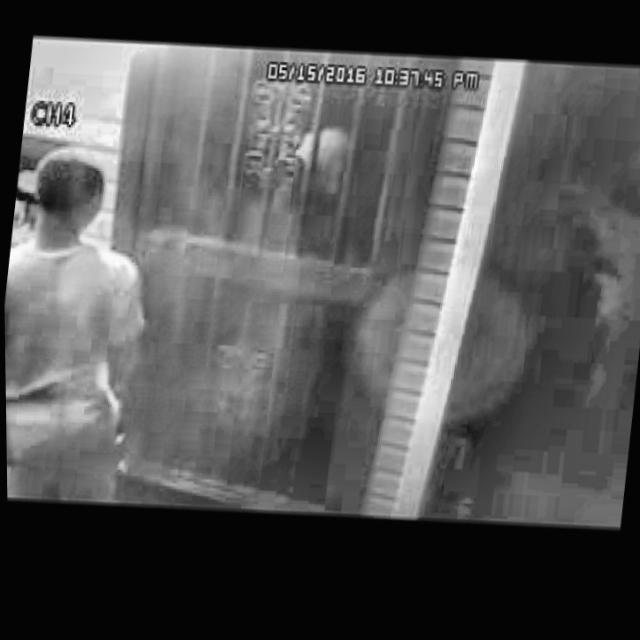burglary: (2, 122, 229, 518)
